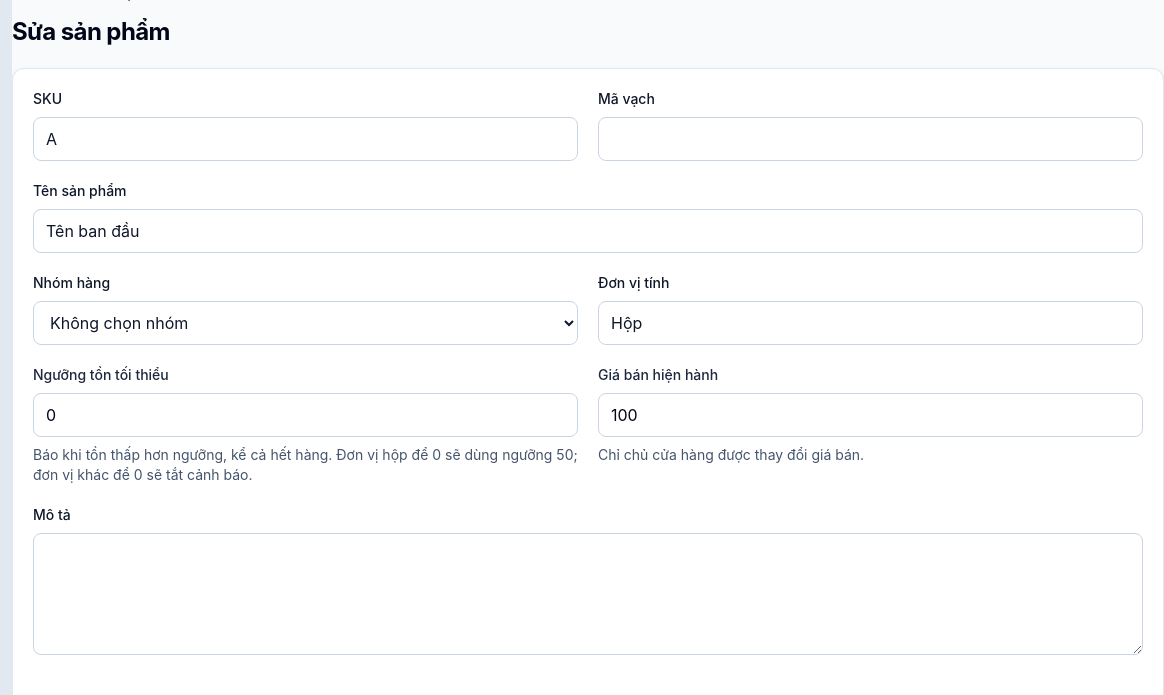
Scenario: keeps dirty values and their base version when a newer server version arrives
Replace the text in the field labelled "Tên sản phẩm" with "Tên đang nhập": (588, 231) [33,209,1143,253]
(page scrolled)
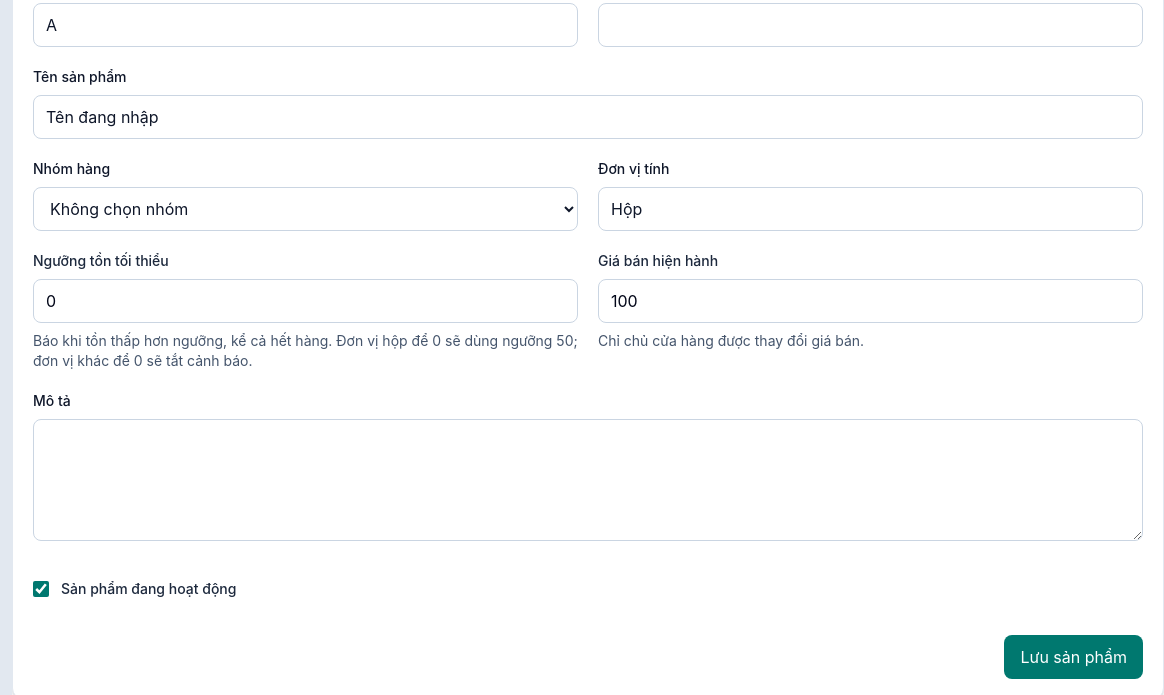
Click the button "Lưu sản phẩm": (1074, 657) [1004,635,1143,679]
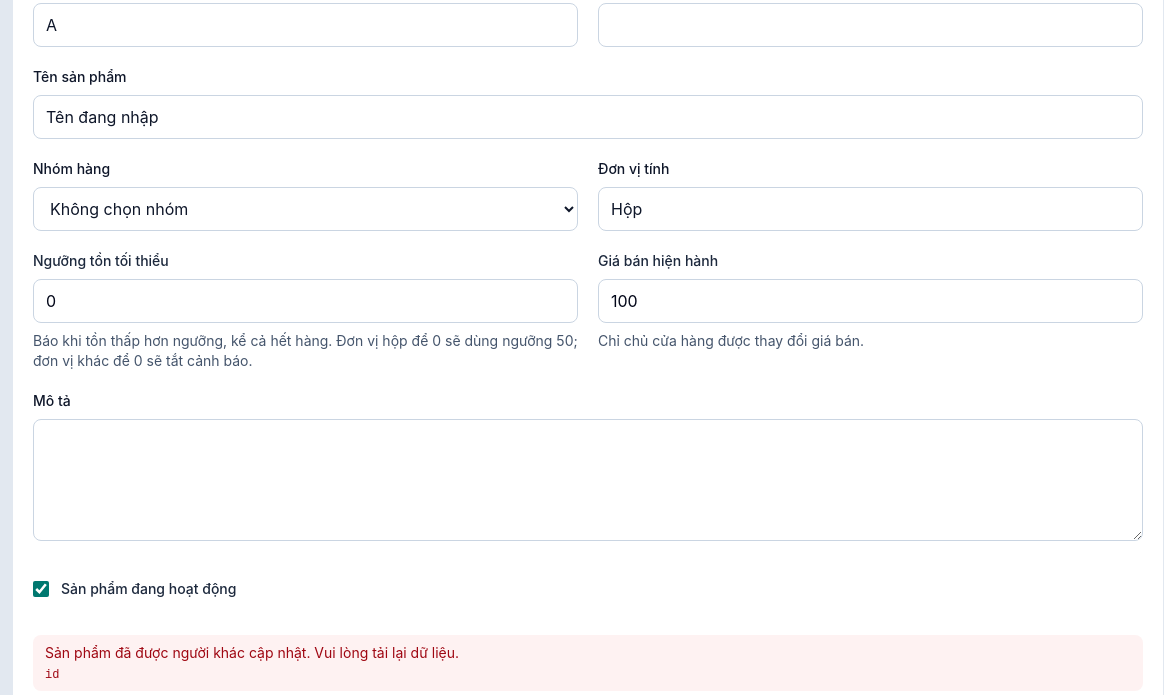
Result: the message shows "đã được người khác cập nhật" at [45,644,459,661]
